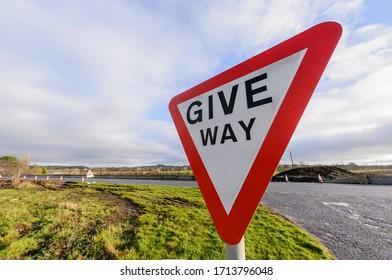Give Way: (161, 20, 346, 245)
